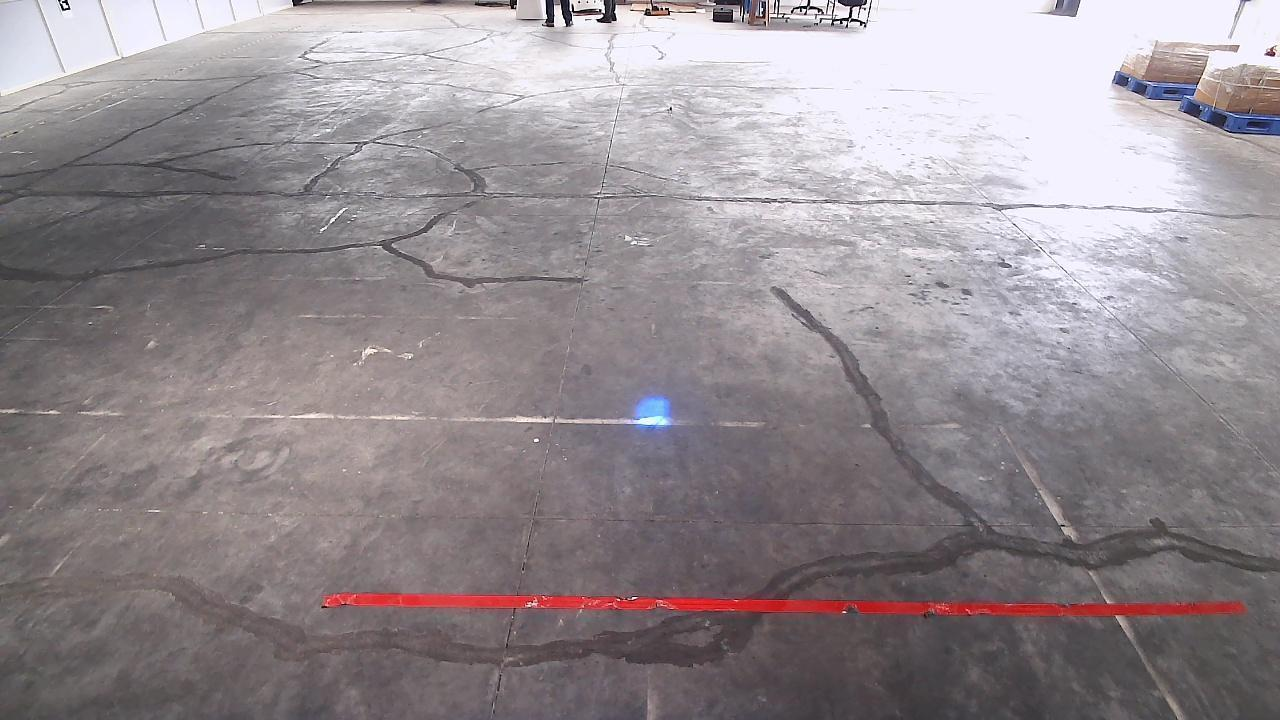red_line: (326, 587, 1260, 619)
